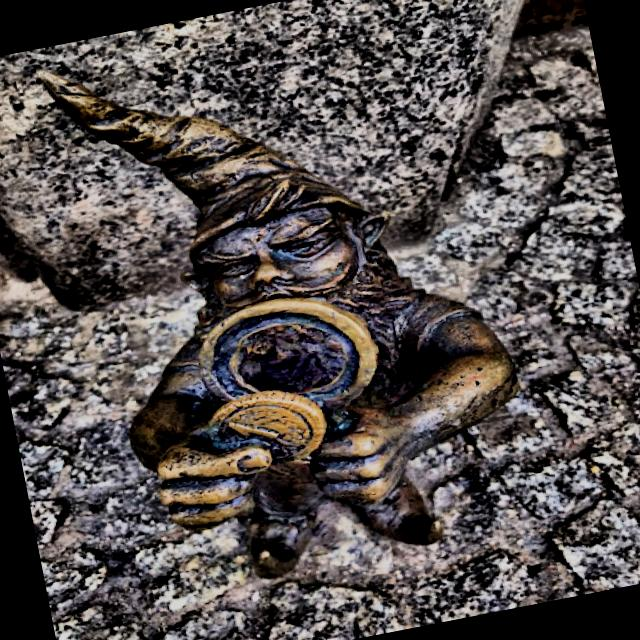Kolekcjoner: (40, 71, 515, 577)
